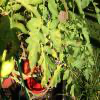Tomato Septoria leaf spot: (1, 11, 24, 61), (26, 17, 47, 71), (37, 52, 56, 83), (48, 64, 67, 91), (17, 0, 40, 17), (50, 28, 63, 53), (66, 55, 77, 65)
